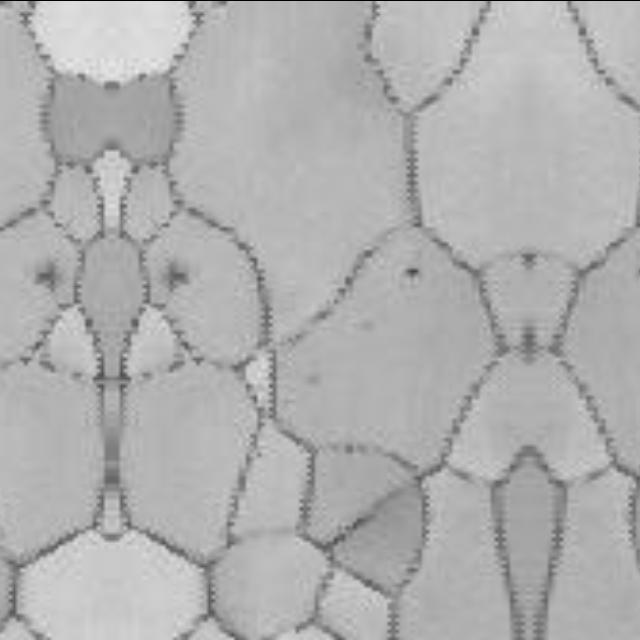good_void: (165, 261, 188, 295), (34, 261, 57, 295), (402, 263, 421, 282)
